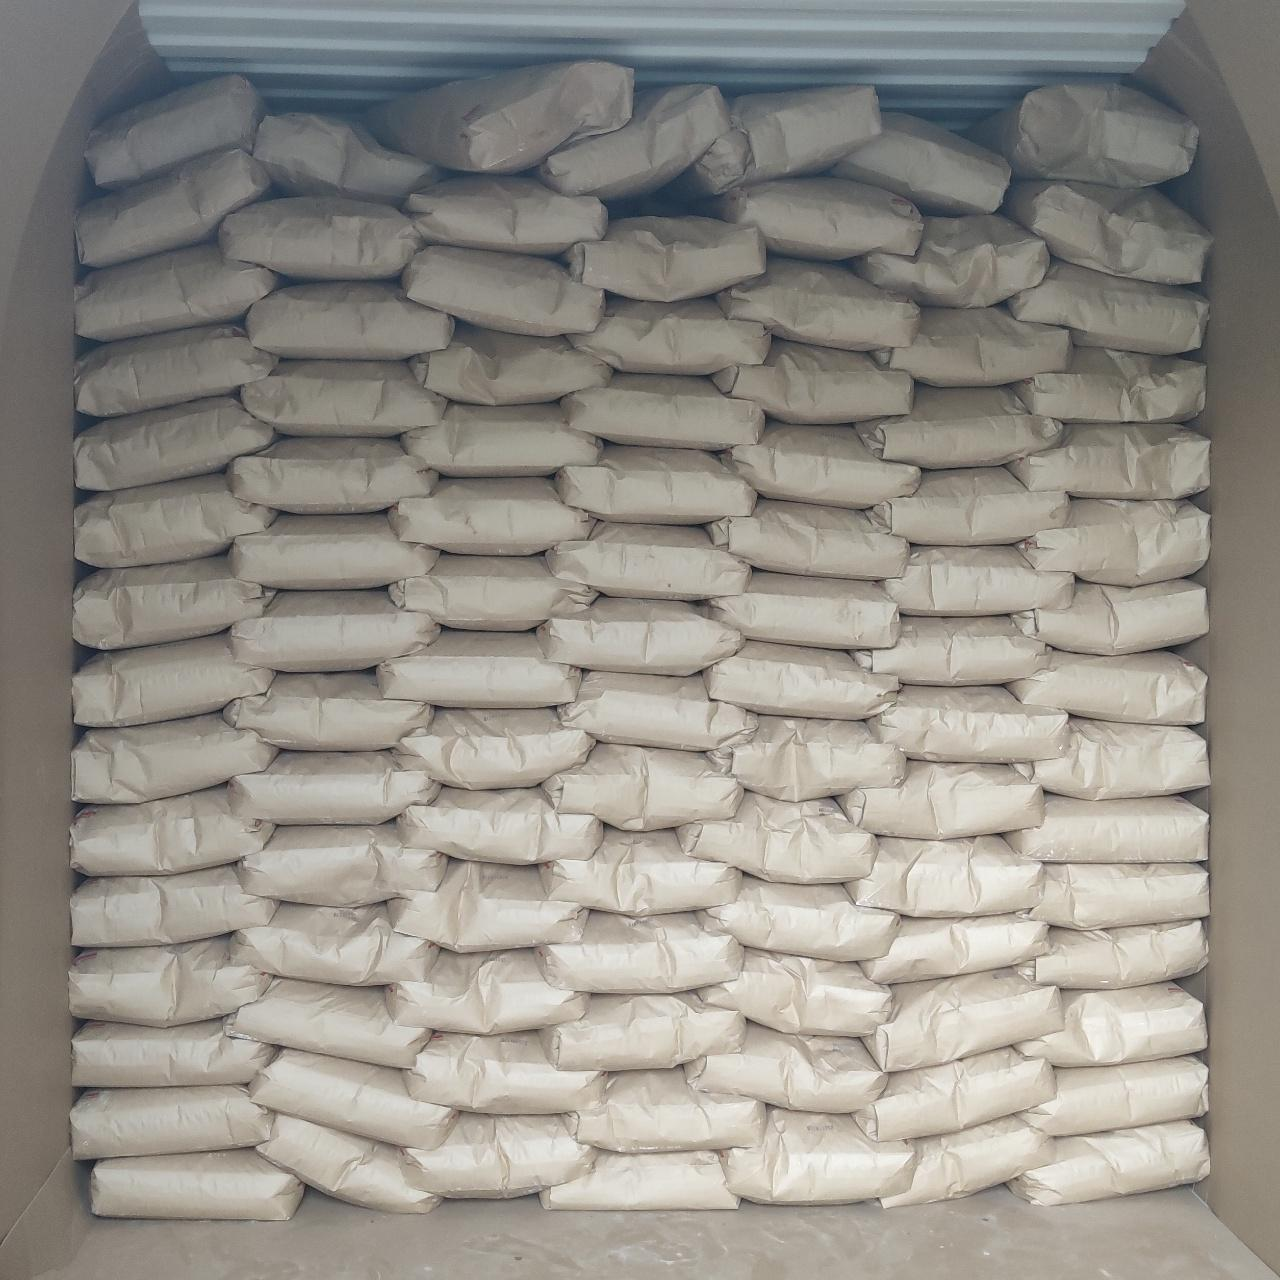sack: (369, 61, 633, 172), (969, 81, 1197, 187), (673, 86, 881, 197), (75, 149, 270, 266), (538, 84, 730, 200), (1002, 181, 1210, 283), (84, 74, 267, 188), (250, 1048, 457, 1148), (862, 969, 1063, 1071), (75, 243, 276, 341), (1008, 258, 1208, 354), (75, 473, 276, 567), (73, 555, 274, 649), (72, 634, 274, 727), (75, 396, 274, 490), (717, 257, 918, 350), (72, 712, 277, 803), (857, 1047, 1055, 1141), (75, 325, 277, 417), (830, 113, 1010, 215), (702, 176, 922, 259), (721, 1109, 915, 1203), (71, 786, 275, 875), (70, 936, 269, 1027), (401, 246, 602, 336), (685, 1023, 886, 1113), (226, 980, 431, 1068), (388, 860, 584, 952), (853, 216, 1049, 307), (236, 822, 447, 906), (257, 1115, 439, 1212), (540, 827, 739, 915), (678, 792, 874, 881), (542, 743, 742, 830), (721, 421, 920, 508), (230, 590, 440, 672), (856, 385, 1062, 468), (711, 337, 912, 422), (231, 903, 438, 985), (566, 216, 765, 301), (218, 198, 424, 280), (71, 865, 277, 947), (410, 321, 612, 404), (387, 949, 584, 1034), (537, 911, 741, 993), (1010, 1120, 1208, 1204), (253, 113, 439, 202), (405, 1031, 603, 1114), (565, 1069, 763, 1152), (1012, 983, 1207, 1067), (402, 1113, 597, 1197), (1016, 500, 1208, 585), (537, 597, 742, 676), (223, 672, 430, 750), (707, 876, 899, 960), (396, 708, 595, 789), (245, 281, 454, 358), (702, 949, 891, 1034), (227, 437, 438, 513), (707, 499, 907, 579), (839, 761, 1043, 839), (230, 513, 439, 589), (541, 992, 744, 1070), (1016, 718, 1209, 800), (882, 1115, 1054, 1207), (389, 554, 597, 630), (405, 176, 607, 254), (554, 445, 756, 523), (558, 671, 757, 750), (846, 836, 1040, 917), (565, 297, 769, 374), (389, 477, 593, 554), (546, 522, 750, 599), (377, 630, 580, 707), (229, 750, 440, 824), (562, 373, 764, 450), (875, 308, 1072, 386), (703, 641, 899, 719), (398, 788, 601, 863), (241, 361, 446, 435), (872, 467, 1069, 544), (1012, 577, 1208, 654), (868, 686, 1068, 761), (1020, 1056, 1207, 1136), (702, 572, 898, 648), (1008, 424, 1209, 498), (1007, 651, 1207, 725), (400, 403, 602, 476), (72, 1086, 274, 1159), (91, 1150, 304, 1219), (724, 717, 901, 800), (72, 1015, 275, 1087), (1014, 347, 1206, 421), (1007, 795, 1208, 863), (858, 914, 1048, 983), (1017, 920, 1207, 989), (852, 617, 1046, 684), (882, 547, 1073, 615), (1028, 864, 1209, 928), (541, 1151, 738, 1209)
